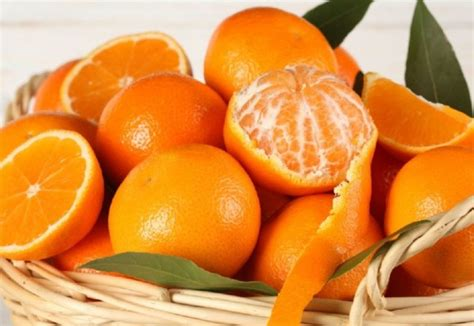orange: (107, 145, 262, 279), (204, 3, 356, 95), (94, 73, 232, 153)
